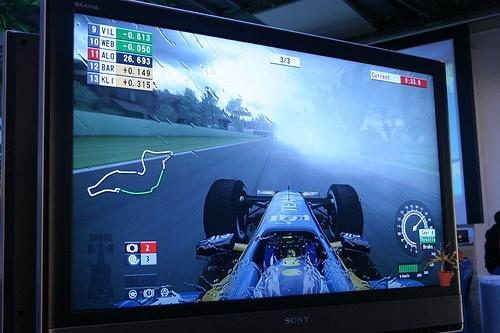tampered: (425, 243, 467, 286)
